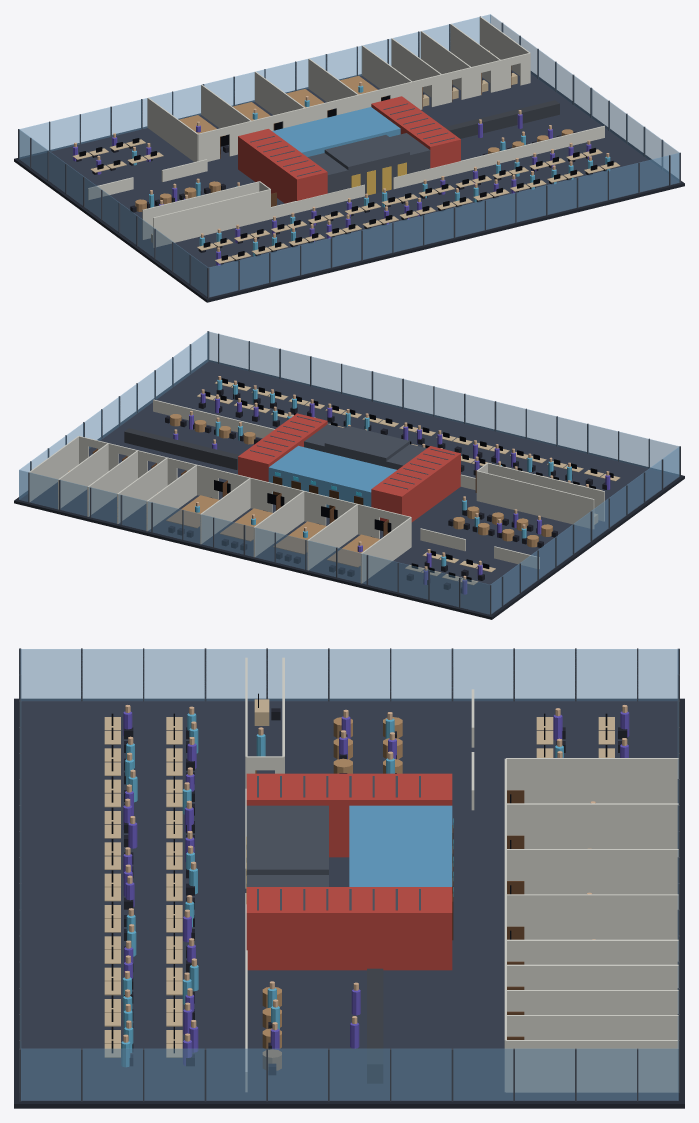
3 renders of one model, top to bottom at view 1: azimuth 30°, elevation 25°; view 2: azimuth 150°, elevation 25°; view 3: azimuth 270°, elevation 25°, orthographic. The views are drawn at different scales.
Visible parts, largest first — view 1: L13_floor_carpet, L13_glass, L13_wall, L13_core, L13_stair, L13_desk, L13_slab, L13_wash, L13_screen, L13_table, L13_counter, L13_role_manager (+4 smaller); view 2: L13_glass, L13_floor_carpet, L13_wall, L13_core, L13_stair, L13_slab, L13_table, L13_wash, L13_chair, L13_desk, L13_screen, L13_counter (+3 smaller); view 3: L13_floor_carpet, L13_glass, L13_wall, L13_stair, L13_core, L13_desk, L13_slab, L13_wash, L13_role_manager, L13_role_analyst, L13_person_skin, L13_table (+4 smaller).
Part boxes in pixels (x1=…): L13_floor_carpet: x1=19, y1=70, x2=679, y2=297; L13_glass: x1=19, y1=14, x2=679, y2=296; L13_wall: x1=88, y1=17, x2=604, y2=247; L13_core: x1=18, y1=16, x2=680, y2=298; L13_stair: x1=238, y1=96, x2=460, y2=203; L13_desk: x1=72, y1=73, x2=620, y2=263; L13_slab: x1=14, y1=71, x2=684, y2=302; L13_wash: x1=272, y1=107, x2=400, y2=156; L13_screen: x1=79, y1=71, x2=613, y2=260; L13_table: x1=135, y1=76, x2=573, y2=211; L13_counter: x1=444, y1=100, x2=559, y2=138; L13_role_manager: x1=73, y1=114, x2=591, y2=265; L13_glass: x1=19, y1=331, x2=679, y2=614; L13_floor_carpet: x1=19, y1=361, x2=679, y2=614; L13_wall: x1=28, y1=399, x2=604, y2=583; L13_core: x1=28, y1=331, x2=680, y2=615; L13_stair: x1=238, y1=413, x2=460, y2=522; L13_slab: x1=14, y1=360, x2=684, y2=619; L13_table: x1=166, y1=414, x2=552, y2=567; L13_wash: x1=268, y1=445, x2=396, y2=507; L13_chair: x1=165, y1=389, x2=606, y2=593; L13_desk: x1=197, y1=381, x2=620, y2=585; L13_screen: x1=204, y1=378, x2=613, y2=581; L13_counter: x1=124, y1=428, x2=239, y2=469; L13_floor_carpet: x1=21, y1=700, x2=678, y2=1101; L13_glass: x1=20, y1=649, x2=678, y2=1100; L13_wall: x1=245, y1=657, x2=678, y2=1092; L13_stair: x1=246, y1=773, x2=452, y2=970; L13_core: x1=19, y1=648, x2=679, y2=1101; L13_desk: x1=104, y1=699, x2=614, y2=1057; L13_slab: x1=14, y1=698, x2=684, y2=1108; L13_wash: x1=349, y1=805, x2=452, y2=886; L13_role_manager: x1=123, y1=711, x2=629, y2=1065; L13_role_analyst: x1=121, y1=713, x2=563, y2=1067; L13_person_skin: x1=123, y1=705, x2=627, y2=1042; L13_table: x1=262, y1=717, x2=402, y2=1070.
Bounding box in the file's own units: 46.6 × 3.37 × 32.6.
